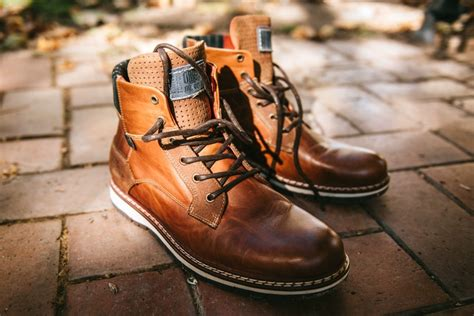cuero: (111, 13, 389, 290)
